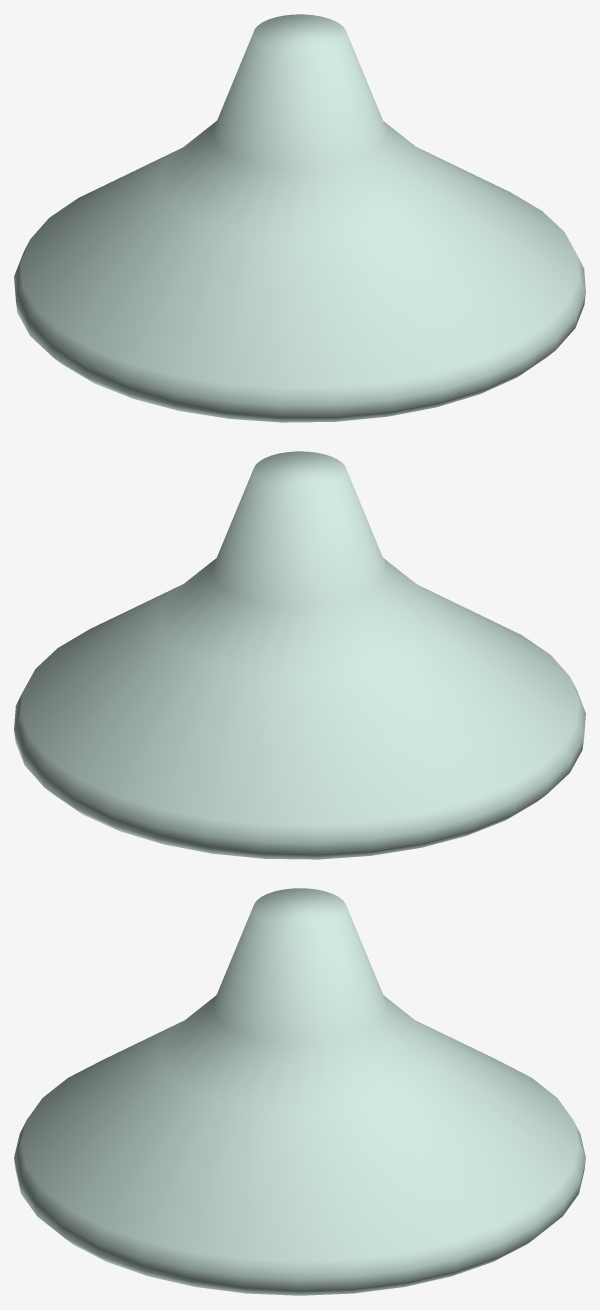
The model's file is floorlamp.fbx.
3 views of the same model, one above another, from view 1: azimuth 30°, elevation 25°; view 2: azimuth 150°, elevation 25°; view 3: azimuth 270°, elevation 25° (orthographic).
Parts seen in each view (by area): view 1: Floorlamp; view 2: Floorlamp; view 3: Floorlamp.
Part boxes in pixels (bbox=[...]): Floorlamp: bbox=[14, 14, 585, 422]; Floorlamp: bbox=[14, 451, 585, 859]; Floorlamp: bbox=[14, 888, 585, 1295].
Size of the model in its own units: 61.97 by 36.96 by 61.97.
